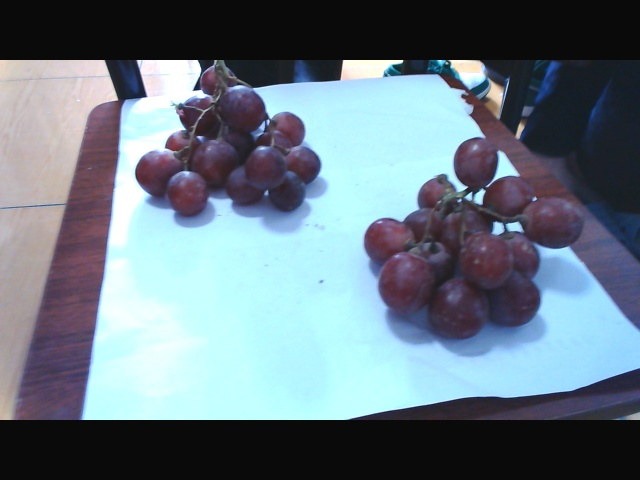grape: (361, 131, 580, 334), (138, 65, 325, 225)
